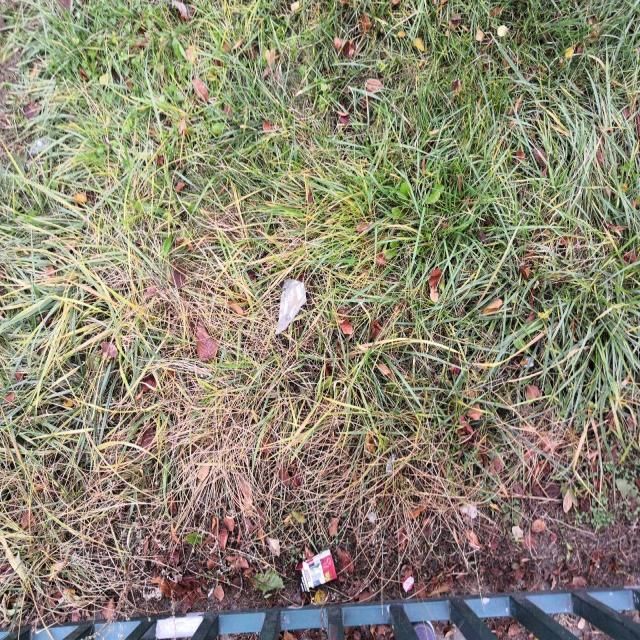rubbish: (294, 547, 338, 594), (274, 277, 308, 335), (402, 575, 416, 591)
